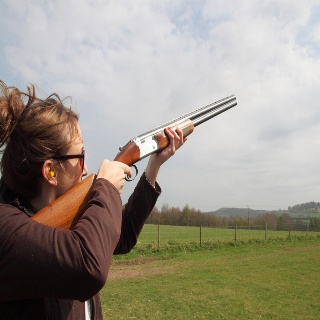shotgun: (27, 93, 238, 230)
